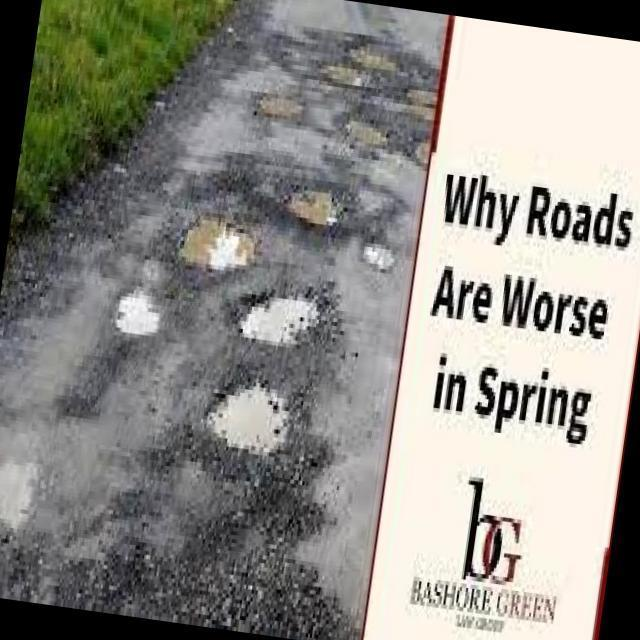Pothole: (220, 387, 296, 457), (322, 34, 401, 90), (244, 297, 315, 350), (182, 220, 221, 264), (289, 191, 333, 229), (345, 117, 388, 149), (254, 97, 303, 124), (409, 90, 436, 116)
